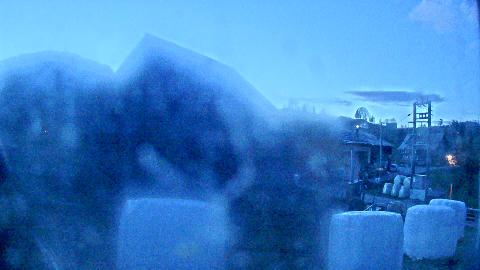car: (390, 164, 398, 172)
sheep: (387, 200, 405, 214), (348, 198, 366, 210)
